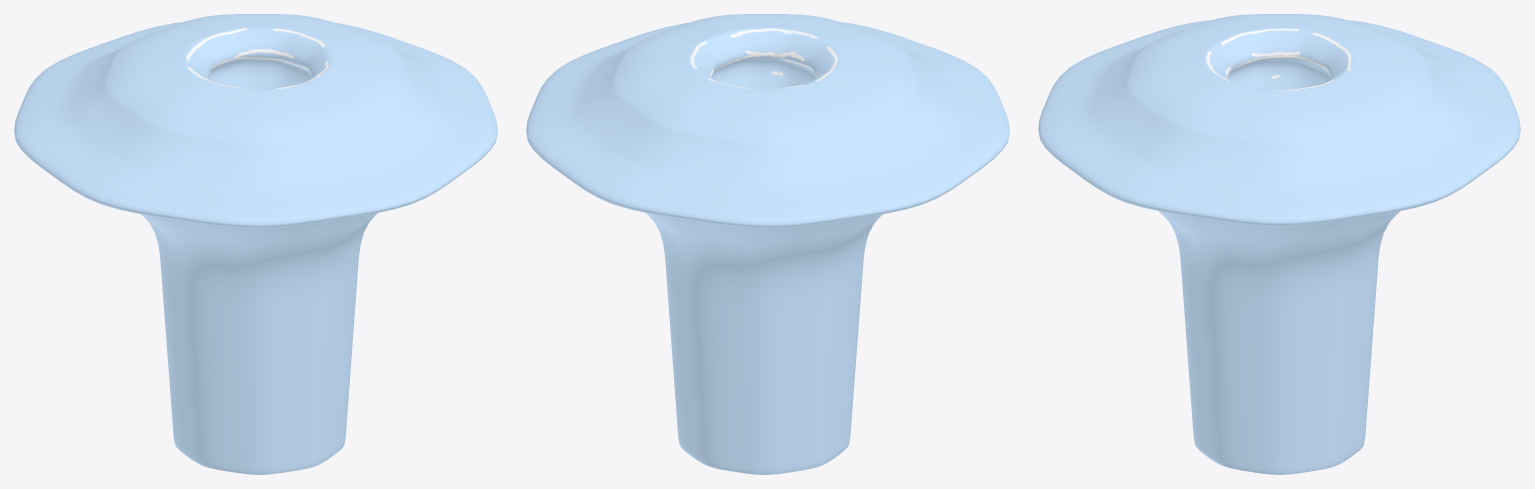
Rendered from iceholeFinal.glb.
The picture shows the model from 3 angles, left to right: view 1: azimuth 30°, elevation 25°; view 2: azimuth 150°, elevation 25°; view 3: azimuth 270°, elevation 25°; orthographic projection.
Visible parts, largest first — view 1: icehole; view 2: icehole; view 3: icehole.
Boxes of the visible parts, x1,y1,x2,y2 form: icehole: [14, 14, 497, 474]; icehole: [526, 14, 1009, 474]; icehole: [1038, 14, 1520, 474].
Bounding box in the file's own units: 11.11 × 9.69 × 11.16.
Materials: 1 (1 with a texture image).
